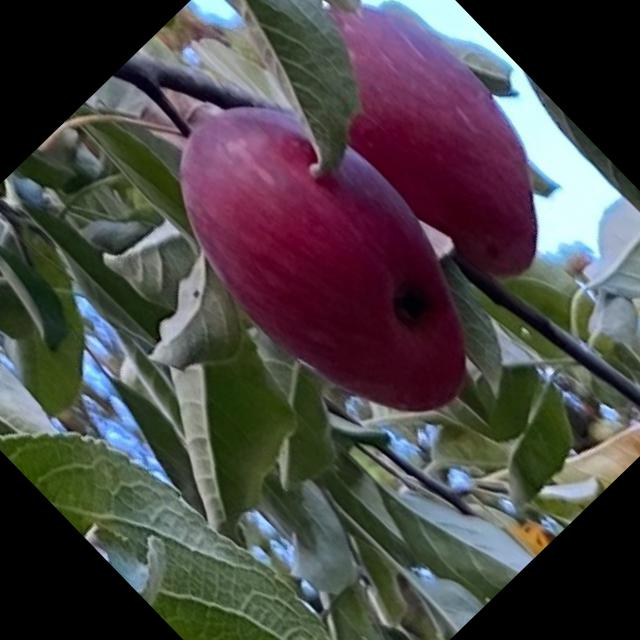Apples: (132, 59, 524, 455), (269, 0, 598, 299)
